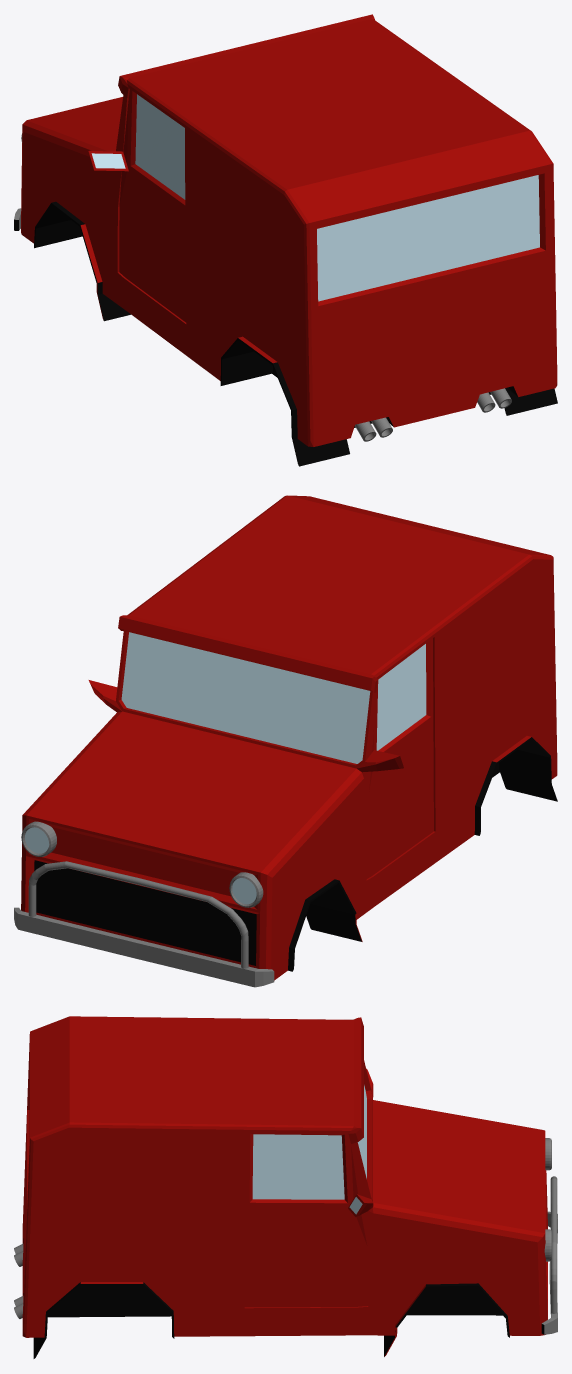
File: MercWagon.fbx
The picture shows the model from 3 angles, top to bottom: view 1: azimuth 30°, elevation 25°; view 2: azimuth 150°, elevation 25°; view 3: azimuth 270°, elevation 25°; orthographic projection. The views are drawn at different scales.
Parts seen in each view (by area): view 1: MercVagon; view 2: MercVagon; view 3: MercVagon.
Part boxes in pixels (box(x1,y1,x2,y2)): MercVagon: box(14, 14, 557, 466); MercVagon: box(14, 495, 557, 987); MercVagon: box(14, 1016, 557, 1358).
Size of the model in its own units: 188 by 150 by 316.
